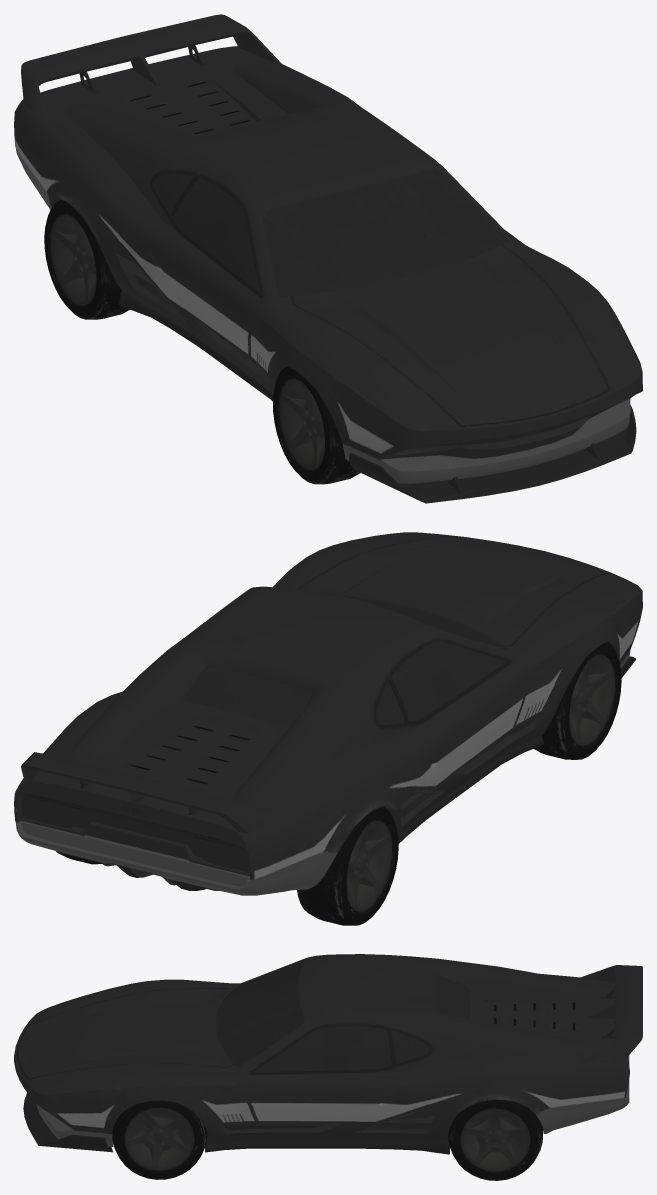
File: cyberpunk-car.glb
3 views of the same model, one above another, from view 1: azimuth 30°, elevation 25°; view 2: azimuth 150°, elevation 25°; view 3: azimuth 270°, elevation 25° (orthographic). The views are drawn at different scales.
Visible parts, largest first — view 1: cb_car_export_cb_car_0; view 2: cb_car_export_cb_car_0; view 3: cb_car_export_cb_car_0.
Part boxes in pixels (<box>): cb_car_export_cb_car_0: <box>14,14,642,503</box>; cb_car_export_cb_car_0: <box>14,532,642,925</box>; cb_car_export_cb_car_0: <box>14,954,642,1180</box>.
Size of the model in its own units: 1.85 by 1.17 by 4.5.
Materials: 1 (1 with a texture image).
